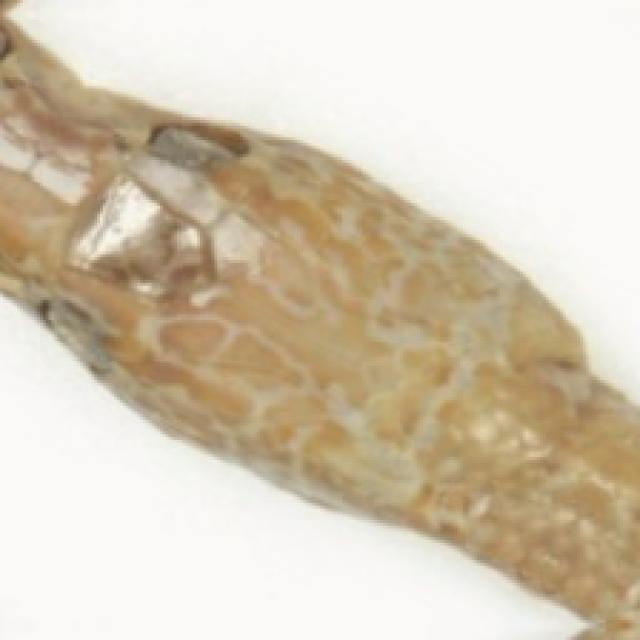mullers wolf snake: (0, 14, 637, 617), (0, 300, 583, 637)
